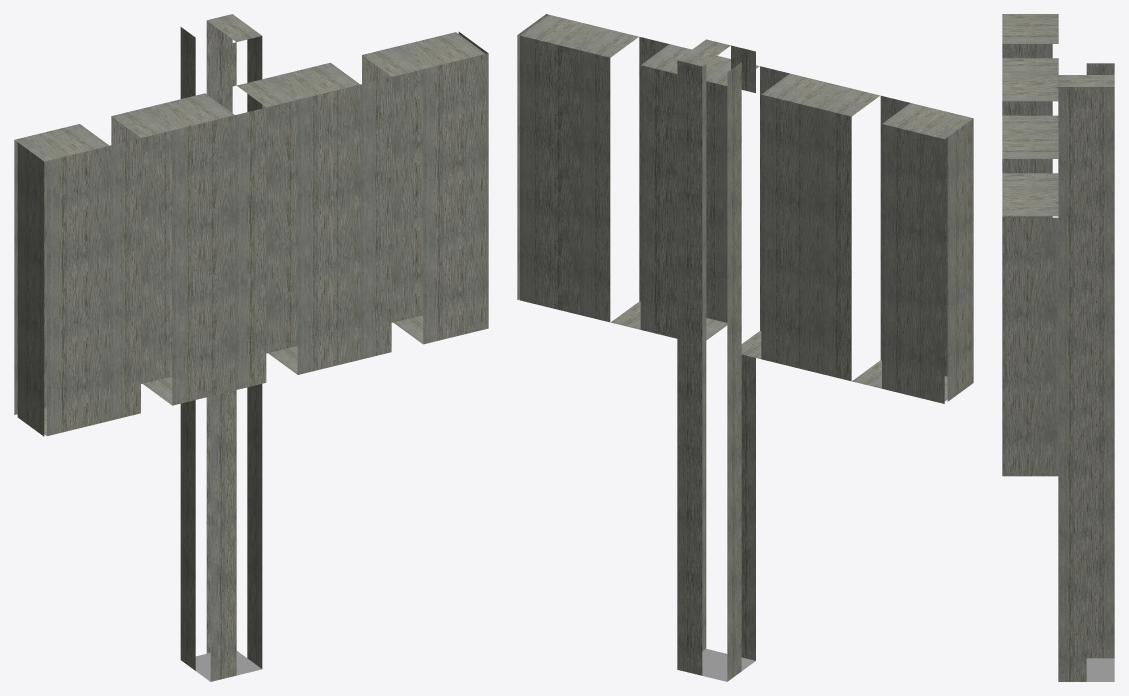
Rendered from SignPost_blend.obj.
3 renders of one model, left to right at view 1: azimuth 30°, elevation 25°; view 2: azimuth 150°, elevation 25°; view 3: azimuth 270°, elevation 25°, orthographic. The views are drawn at different scales.
Parts seen in each view (by area): view 1: sign; view 2: sign; view 3: sign.
Part boxes in pixels (<box>): sign: <box>14,14,488,681</box>; sign: <box>517,14,973,681</box>; sign: <box>1002,14,1114,681</box>.
Size of the model in its own units: 0.3 by 0.4088 by 0.07.
3 materials, 2 textured.
